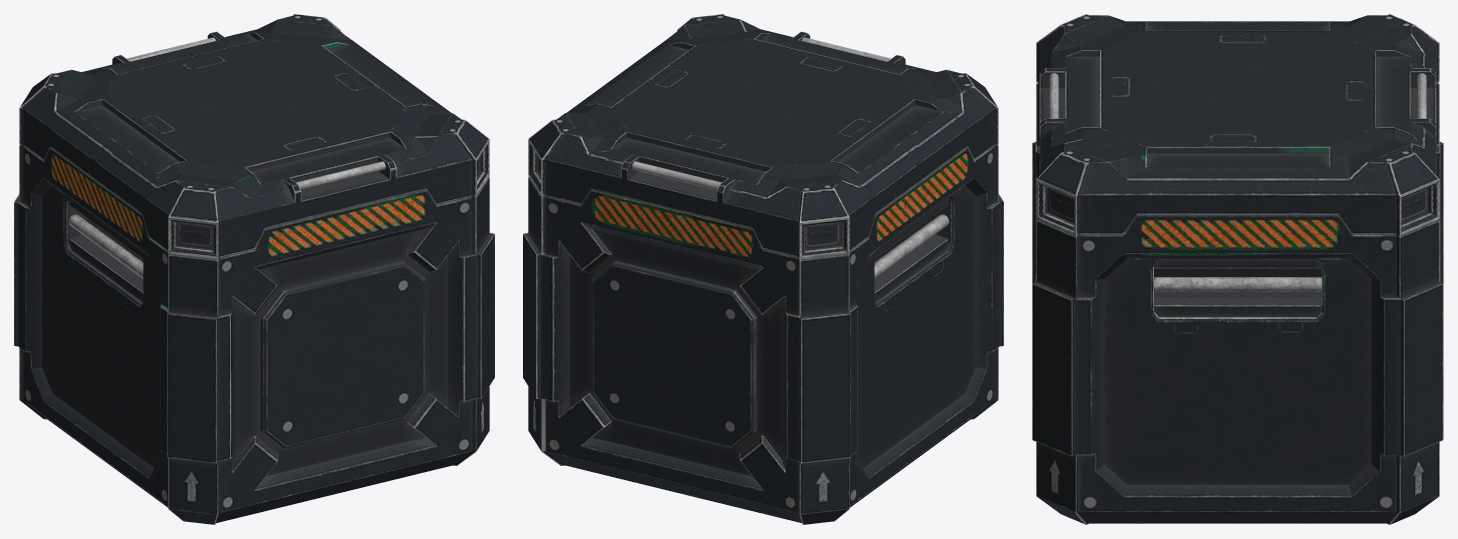
Rendered from L_6_Sci-Fi.glb.
3 views of the same model, side by side, from view 1: azimuth 30°, elevation 25°; view 2: azimuth 150°, elevation 25°; view 3: azimuth 270°, elevation 25° (orthographic). The views are drawn at different scales.
Parts seen in each view (by area): view 1: L_6_sci-fi; view 2: L_6_sci-fi; view 3: L_6_sci-fi.
Boxes of the visible parts, bbox=[...] form: L_6_sci-fi: bbox=[14, 14, 494, 524]; L_6_sci-fi: bbox=[523, 14, 1003, 524]; L_6_sci-fi: bbox=[1032, 14, 1443, 524].
Size of the model in its own units: 3.5 by 3.39 by 3.5.
Materials: 1 (1 with a texture image).
